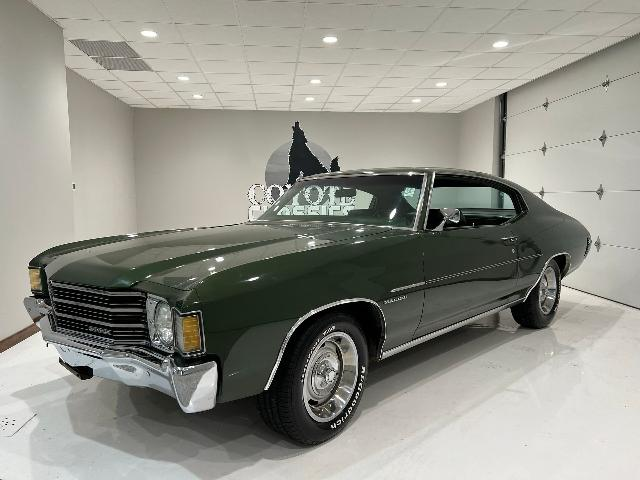chevelle-1972: (24, 167, 590, 445)
